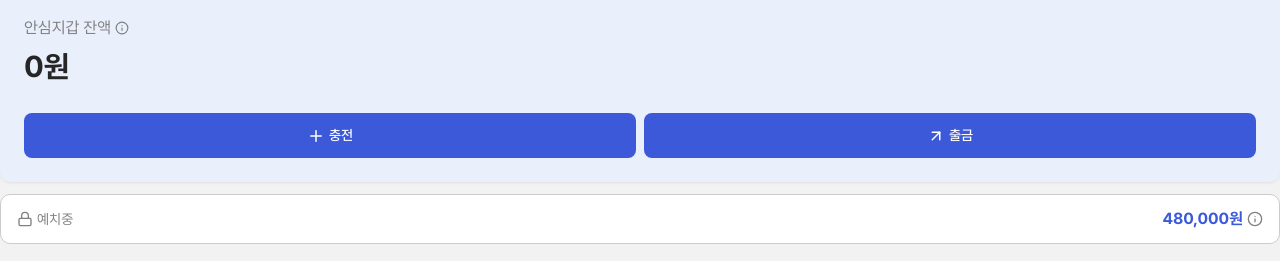
Test case: OwnerHomeView 안심지갑 잔액 안내 › info 버튼을 누르면 잔액 박스 아래에 안내가 뜬다
This screenshot has width=1280, height=261.
Click the button with class "info-btn" at (122,28), box [115, 21, 129, 35]
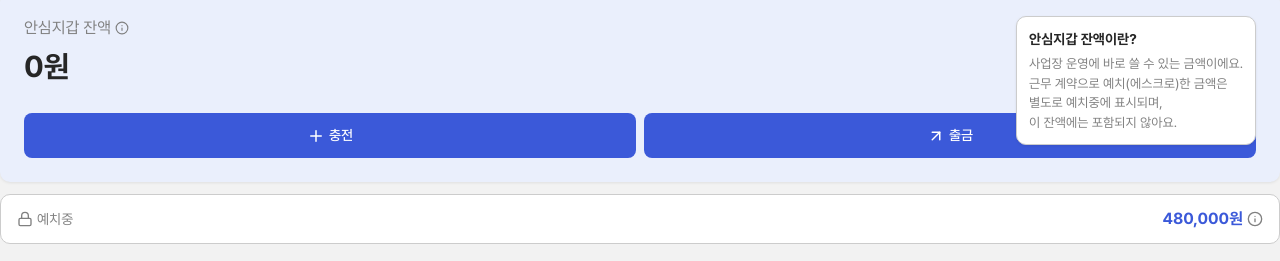
Now the element with class "balance-info" is shown, box [1016, 16, 1256, 145]
Now the element with class "balance-info" shows "안심지갑 잔액이란?", box [1029, 31, 1137, 47]
